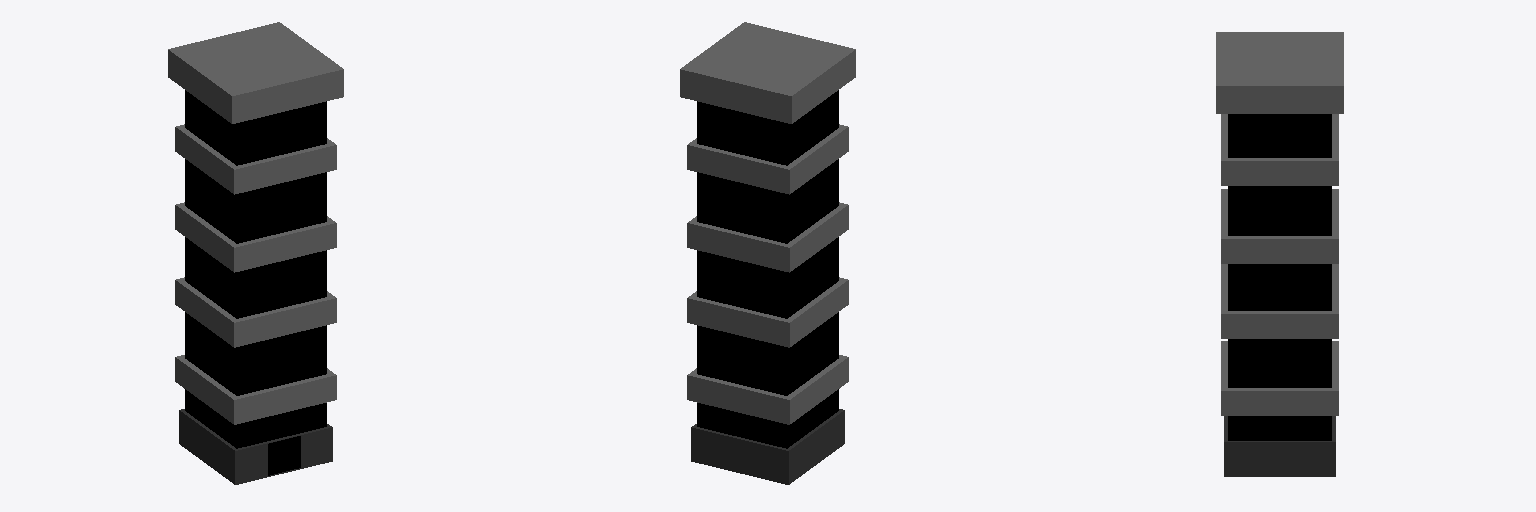
The model's file is mansion.obj.
3 views of the same model, side by side, from view 1: azimuth 30°, elevation 25°; view 2: azimuth 150°, elevation 25°; view 3: azimuth 270°, elevation 25° (orthographic).
Parts seen in each view (by area): view 1: pCube2, pCube8, pCube19, pCube16, pCube17, pCube18, pCube14, pPlane1; view 2: pCube2, pCube8, pCube14, pCube19, pCube16, pCube17, pCube18; view 3: pCube2, pCube8, pCube14, pCube16, pCube17, pCube19, pCube18.
Boxes of the visible parts, x1,y1,x2,y2 form: pCube2: [185, 90, 326, 448]; pCube8: [168, 22, 343, 123]; pCube19: [175, 277, 336, 347]; pCube16: [175, 355, 336, 424]; pCube17: [175, 202, 336, 272]; pCube18: [175, 124, 336, 194]; pCube14: [179, 409, 332, 484]; pPlane1: [268, 436, 300, 475]; pCube2: [697, 90, 838, 448]; pCube8: [680, 22, 855, 123]; pCube14: [691, 409, 844, 484]; pCube19: [687, 277, 848, 347]; pCube16: [687, 355, 848, 424]; pCube17: [687, 202, 848, 272]; pCube18: [687, 124, 848, 194]; pCube2: [1228, 114, 1331, 440]; pCube8: [1216, 32, 1343, 113]; pCube14: [1224, 416, 1335, 476]; pCube16: [1221, 341, 1338, 415]; pCube17: [1221, 189, 1338, 263]; pCube19: [1221, 264, 1338, 338]; pCube18: [1221, 114, 1338, 185].
Size of the model in its own units: 5.65 by 19.02 by 5.65.